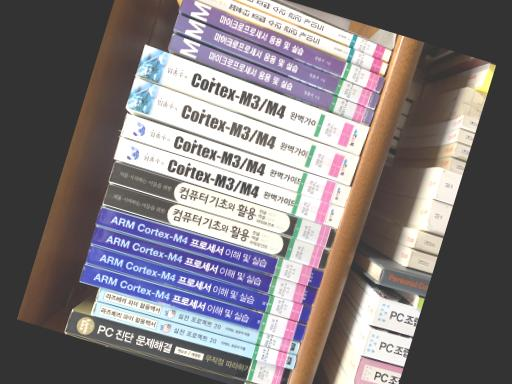book-spine: (135, 44, 369, 155), (125, 77, 360, 185), (120, 113, 351, 206), (113, 136, 344, 227), (109, 161, 336, 249), (102, 183, 330, 270), (173, 13, 379, 109), (168, 33, 375, 125), (179, 0, 385, 92), (90, 225, 317, 306), (96, 206, 323, 287), (85, 244, 311, 322), (80, 264, 306, 341), (65, 310, 291, 384), (199, 0, 388, 74), (91, 301, 296, 369), (96, 288, 299, 355), (65, 333, 262, 384), (239, 0, 391, 61)
